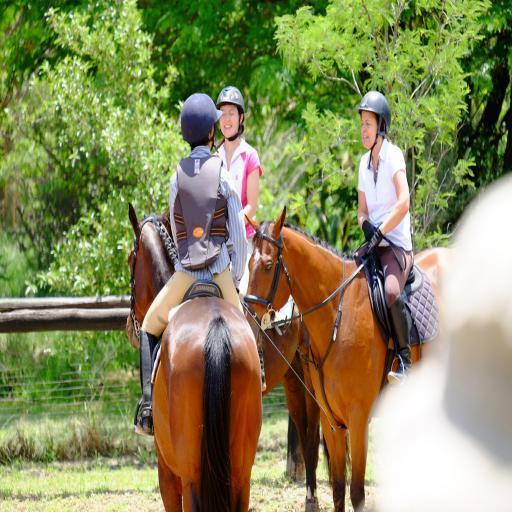horse: (242, 204, 448, 512), (124, 200, 264, 512), (258, 298, 354, 512)
